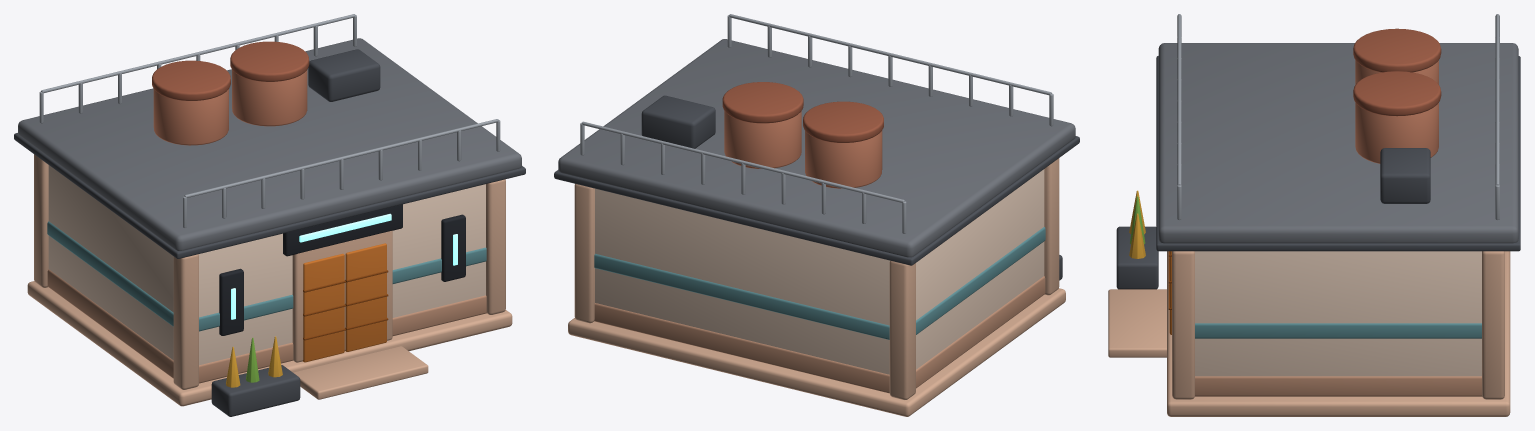
File: github.glb
The picture shows the model from 3 angles, left to right: view 1: azimuth 30°, elevation 25°; view 2: azimuth 150°, elevation 25°; view 3: azimuth 270°, elevation 25°; orthographic projection. The views are drawn at different scales.
Parts seen in each view (by area): view 1: Cube.008, Cube.001, Cube, Cube.002, Cube.009, Cube.012, Cube.016, Cube.003, Cube.027, Cube.004, Cylinder.022, Cylinder.020 (+13 smaller); view 2: Cube.008, Cube.001, Cube, Cube.002, Cube.003, Cube.009, Cube.005, Cylinder.022, Cylinder.020, Cube.010, Cube.007, Cylinder.023 (+4 smaller); view 3: Cube.008, Cube.001, Cube, Cube.002, Cube.003, Cube.009, Cube.027, Cube.006, Cube.007, Cylinder.022, Cylinder.023, Cylinder.021 (+6 smaller).
Boxes of the visible parts, <box> form: Cube.008: <box>18,38,521,250</box>; Cube.001: <box>48,165,485,365</box>; Cube: <box>27,281,512,406</box>; Cube.002: <box>47,269,486,383</box>; Cube.009: <box>14,133,525,258</box>; Cube.012: <box>303,253,344,362</box>; Cube.016: <box>345,243,386,351</box>; Cube.003: <box>47,221,486,331</box>; Cube.027: <box>293,346,428,399</box>; Cube.004: <box>173,254,198,389</box>; Cylinder.022: <box>232,70,307,126</box>; Cylinder.020: <box>153,89,228,145</box>; Cube.008: <box>558,39,1075,257</box>; Cube.001: <box>595,169,1044,374</box>; Cube: <box>568,288,1065,416</box>; Cube.002: <box>594,276,1045,393</box>; Cube.003: <box>594,227,1045,339</box>; Cube.009: <box>554,136,1079,265</box>; Cube.005: <box>889,260,915,399</box>; Cylinder.022: <box>724,111,801,168</box>; Cylinder.020: <box>805,130,882,188</box>; Cube.010: <box>641,95,715,148</box>; Cube.007: <box>574,184,594,323</box>; Cylinder.023: <box>722,82,803,123</box>; Cube.008: <box>1158,43,1518,243</box>; Cube.001: <box>1195,251,1481,376</box>; Cube: <box>1167,251,1510,416</box>; Cube.002: <box>1195,376,1482,396</box>; Cube.003: <box>1195,323,1481,338</box>; Cube.009: <box>1156,56,1520,251</box>; Cube.027: <box>1108,289,1166,357</box>; Cube.006: <box>1172,251,1194,399</box>; Cube.007: <box>1482,251,1504,399</box>; Cylinder.022: <box>1355,102,1438,163</box>; Cylinder.023: <box>1353,71,1441,116</box>; Cylinder.021: <box>1353,28,1441,72</box>.
Bounding box in the file's own units: 10.7 × 6.68 × 9.85.
